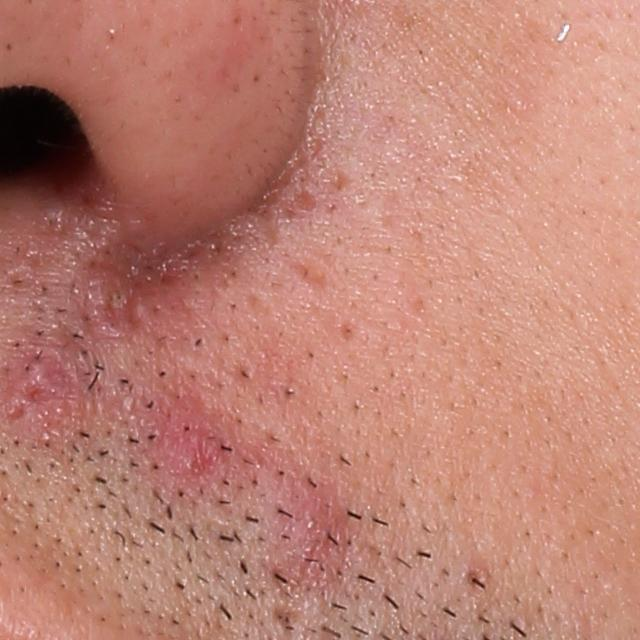atrophic_scar: (288, 258, 334, 293)
papule: (170, 407, 244, 493), (294, 490, 339, 557), (19, 345, 65, 406)
